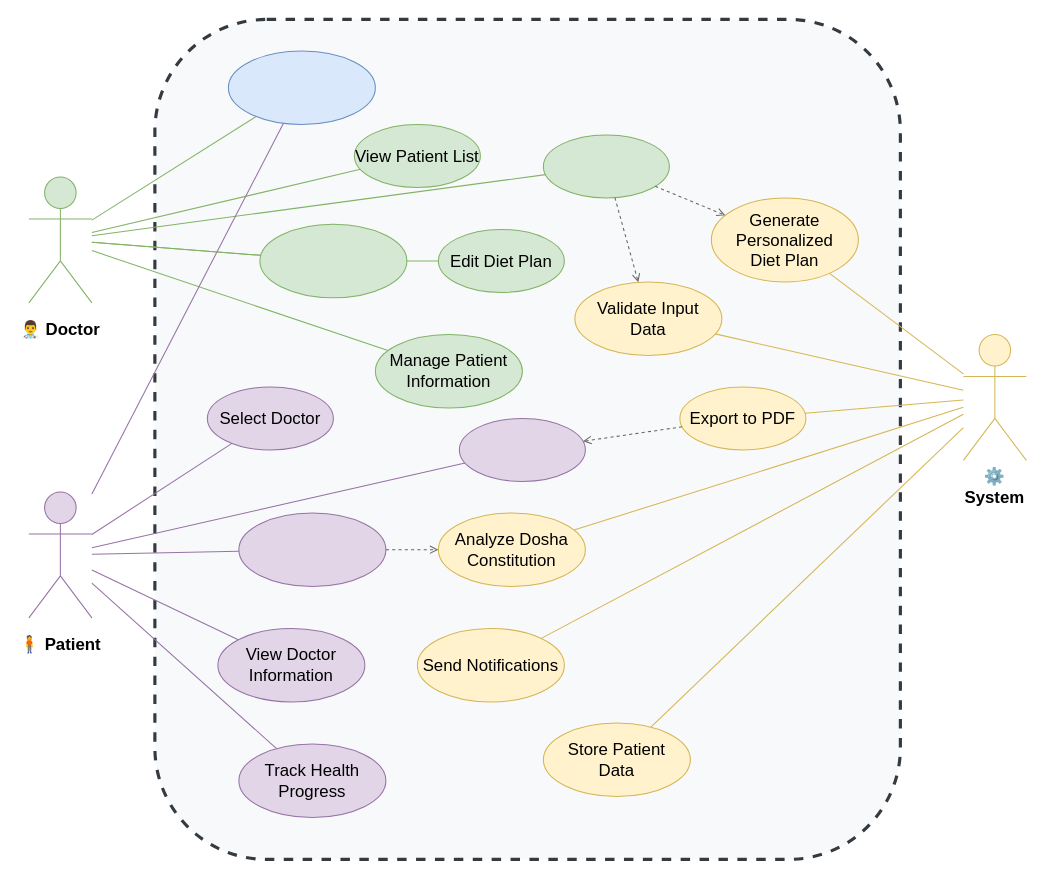
Image size: 1054x879. Some labels were removed from this diagram. Here are the shapes that lost their labels. From the top down, the centre of each, then its label:
pixel 301 87: Select User Type (Doctor/Patient)
pixel 605 166: Create Diet Plan
pixel 333 260: Check Patient Assessment Status
pixel 521 449: View Diet Plan
pixel 312 549: Take Prakruti Assessment
